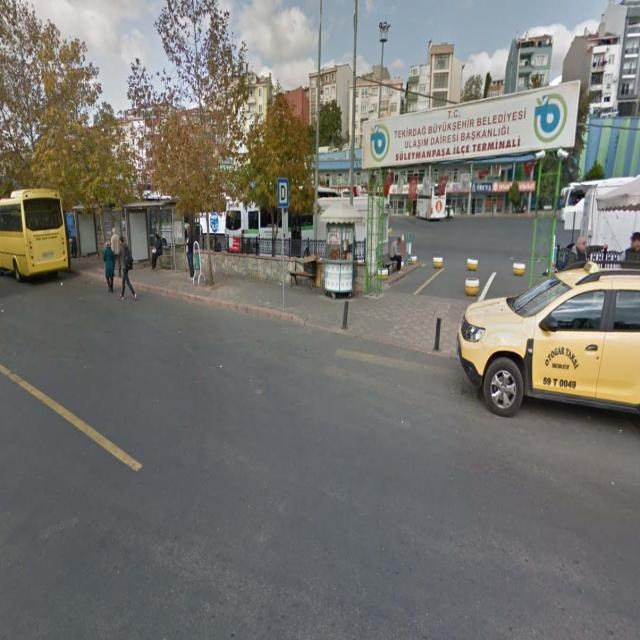durak: (277, 178, 288, 208)
